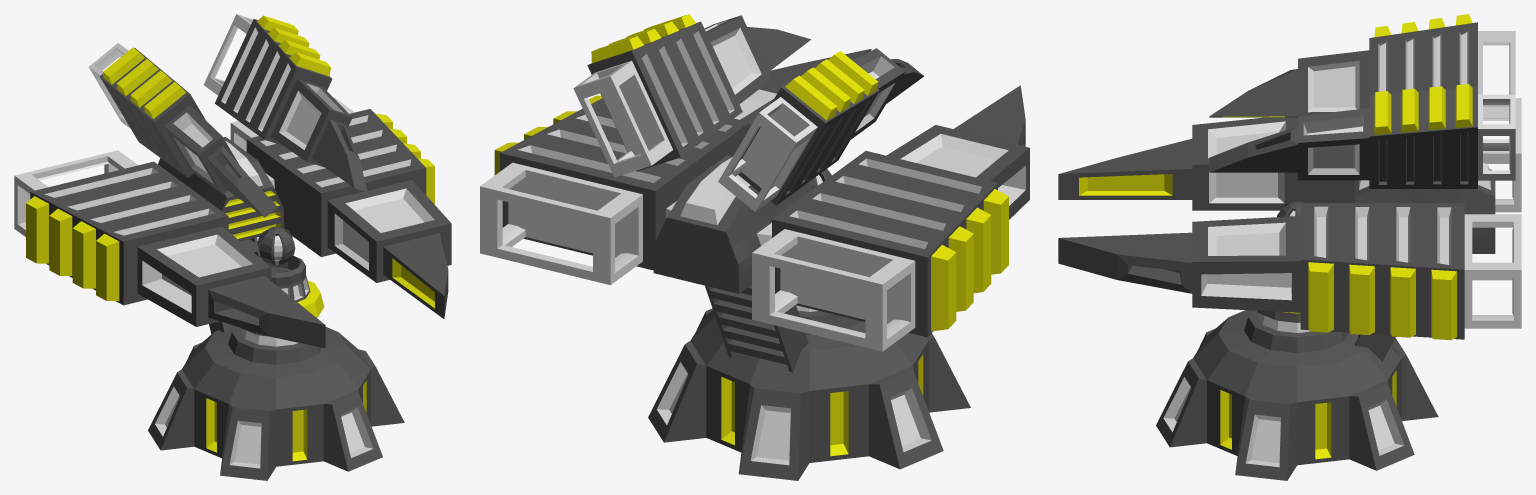
File: tower9_2.fbx
3 renders of one model, left to right at view 1: azimuth 30°, elevation 25°; view 2: azimuth 150°, elevation 25°; view 3: azimuth 270°, elevation 25°, orthographic. The views are drawn at different scales.
Visible parts, largest first — view 1: polySurface72; view 2: polySurface72; view 3: polySurface72.
Part boxes in pixels (x1,y1,x2,y2): polySurface72: (14,14,451,480); polySurface72: (480,14,1029,480); polySurface72: (1058,14,1521,480).
Bounding box in the file's own units: 0.9649 × 0.8644 × 0.9754.
